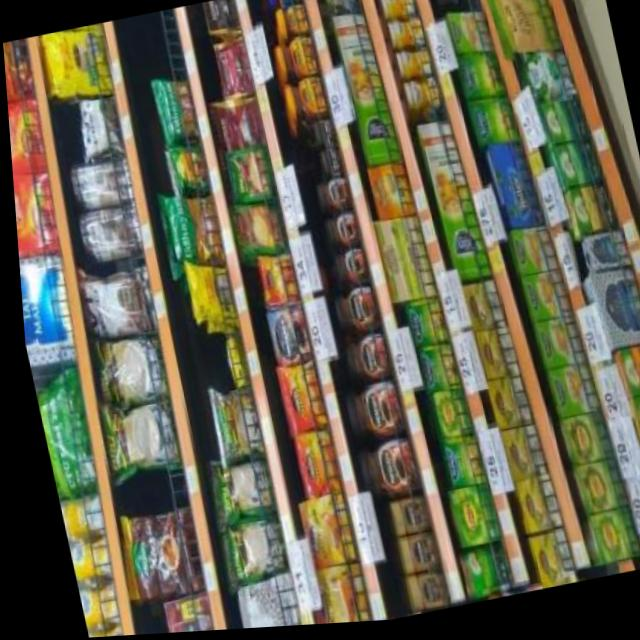Coffee: (290, 493, 349, 570), (297, 564, 362, 628), (350, 440, 415, 504), (336, 383, 401, 446), (270, 365, 321, 437), (286, 431, 334, 499), (262, 310, 309, 370), (337, 333, 387, 386), (327, 288, 377, 340), (274, 39, 320, 84), (283, 79, 327, 124), (392, 538, 432, 578), (383, 502, 423, 540), (313, 178, 351, 217), (321, 213, 358, 253), (400, 577, 441, 613), (329, 249, 366, 287), (275, 6, 311, 41), (317, 148, 339, 177), (311, 120, 332, 149)
